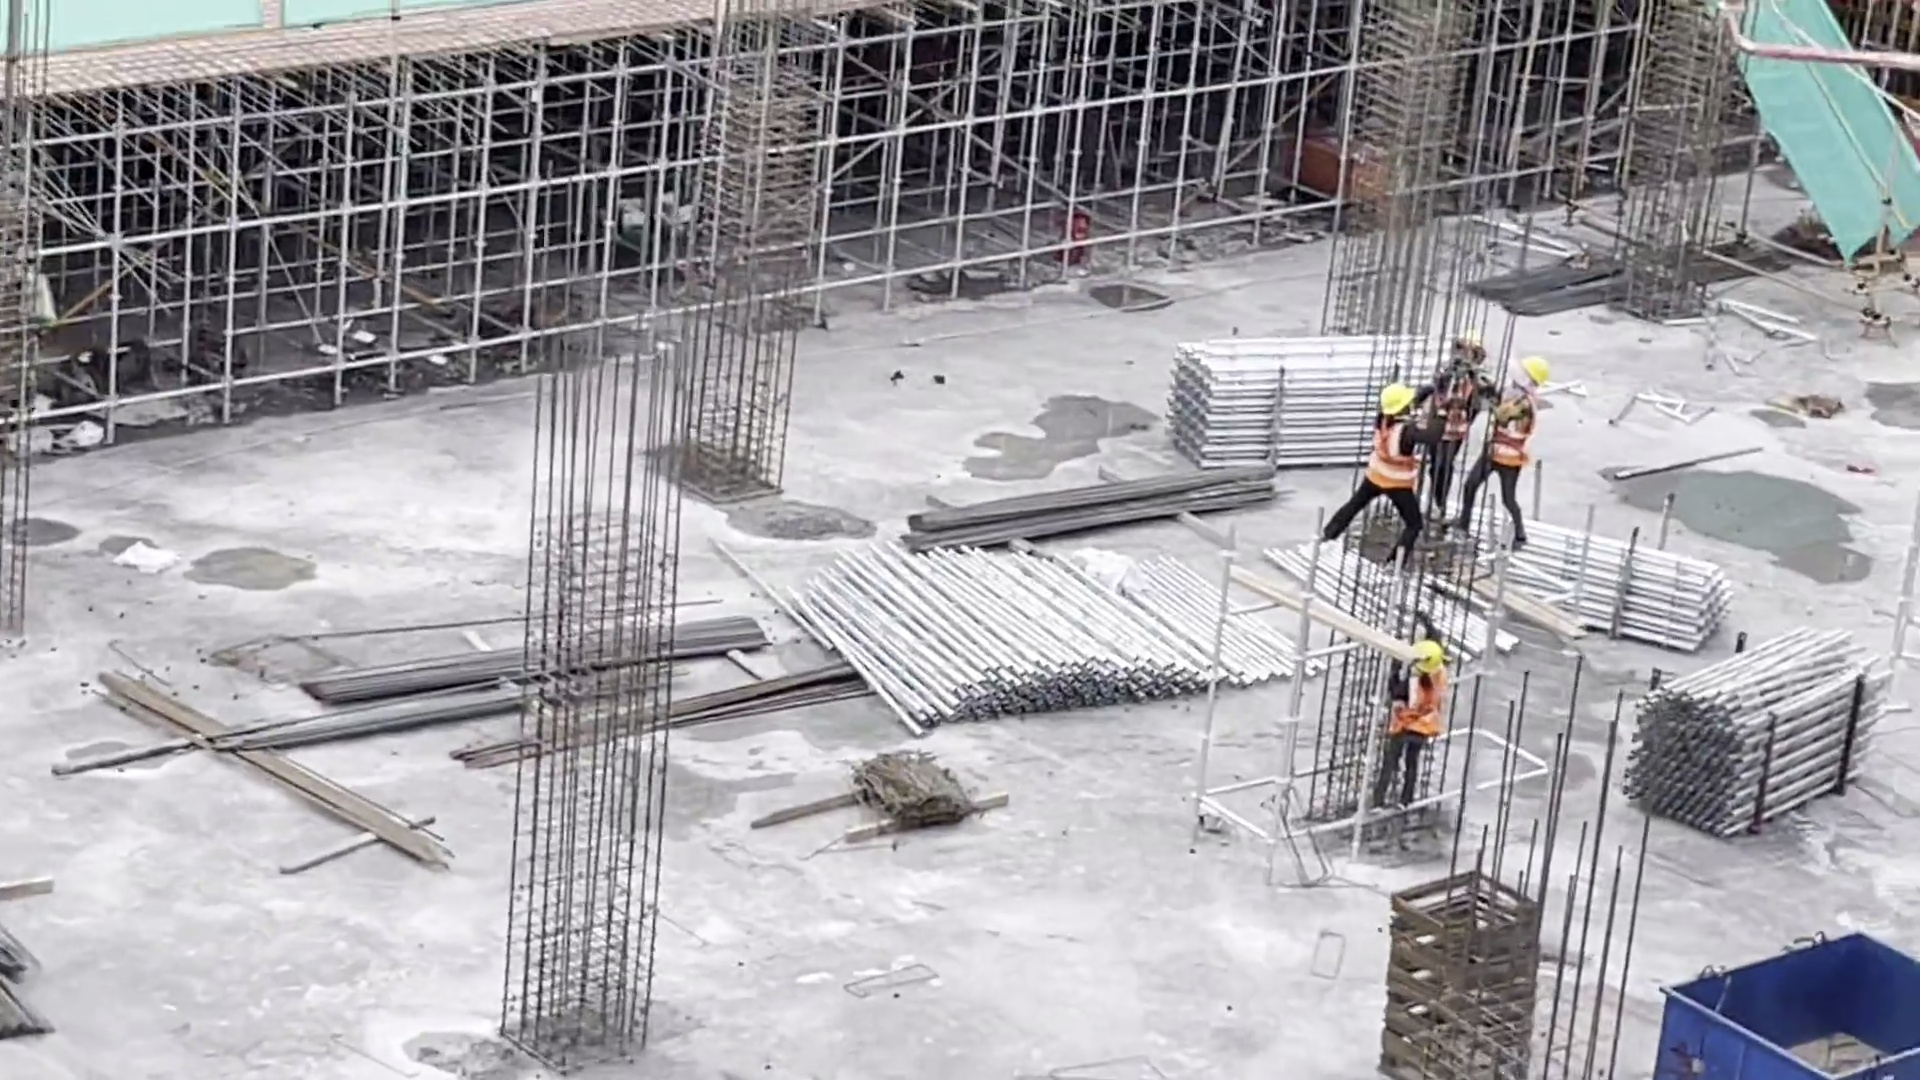helmet: (1380, 382, 1417, 415), (1411, 639, 1445, 672), (1514, 353, 1548, 385), (1455, 331, 1488, 357)
hopper: (1653, 915, 1920, 1077)
person: (1374, 638, 1440, 815), (1484, 356, 1545, 541), (1355, 376, 1418, 549), (1433, 341, 1475, 491)
rebar: (260, 601, 776, 704), (292, 649, 688, 746), (901, 457, 1277, 558), (467, 665, 873, 742)
scaffold: (785, 522, 1308, 735), (1603, 631, 1892, 843), (1168, 331, 1482, 469), (1473, 500, 1726, 648)
vest: (1363, 416, 1418, 489), (1488, 387, 1533, 467), (1395, 665, 1439, 746), (1438, 369, 1477, 430)
